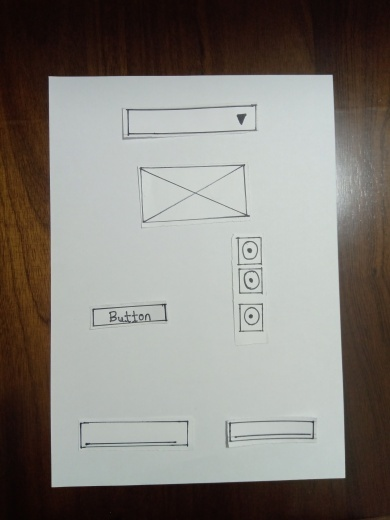button: (91, 308, 171, 323)
dropdown: (122, 106, 255, 133)
img: (137, 168, 246, 225)
radio: (237, 237, 262, 265), (238, 303, 263, 331), (238, 267, 263, 295)
text: (79, 424, 188, 450), (230, 423, 314, 443)
